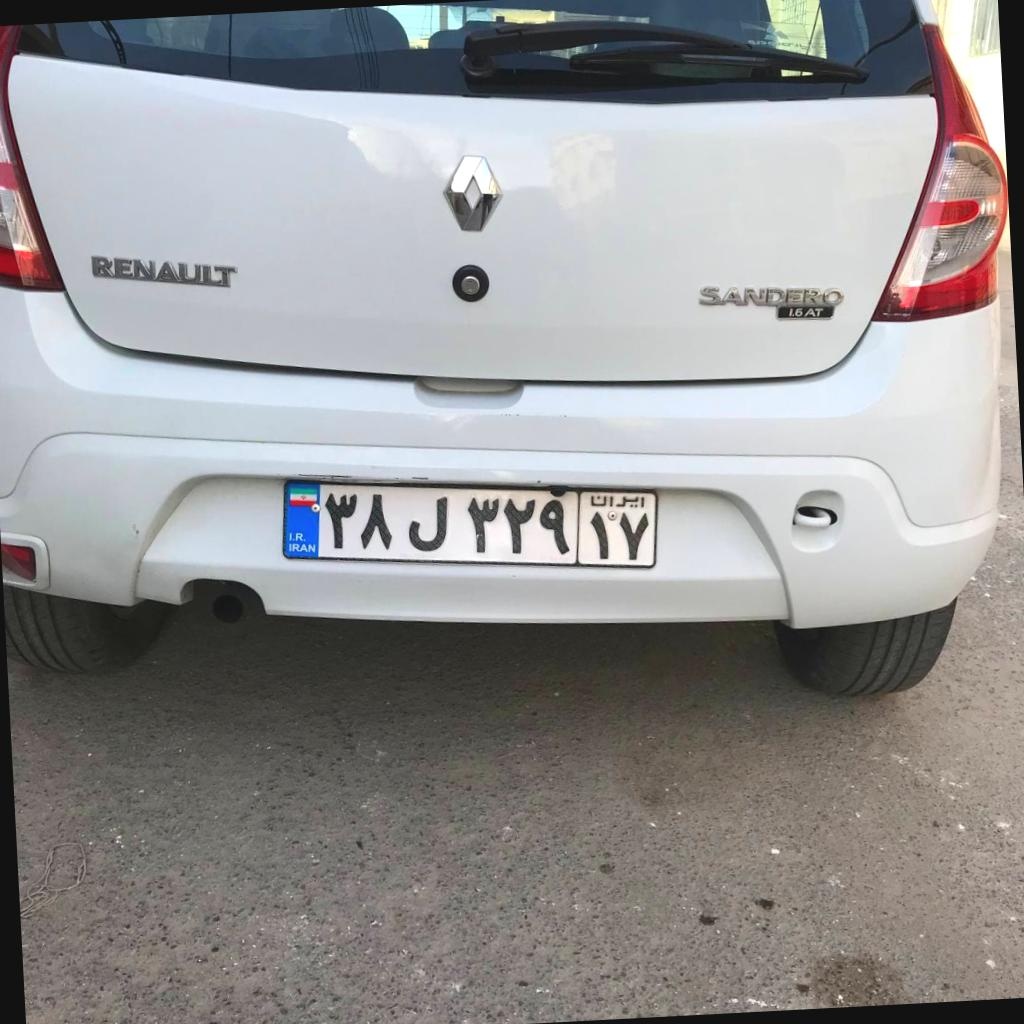Plates: (282, 478, 659, 566)
